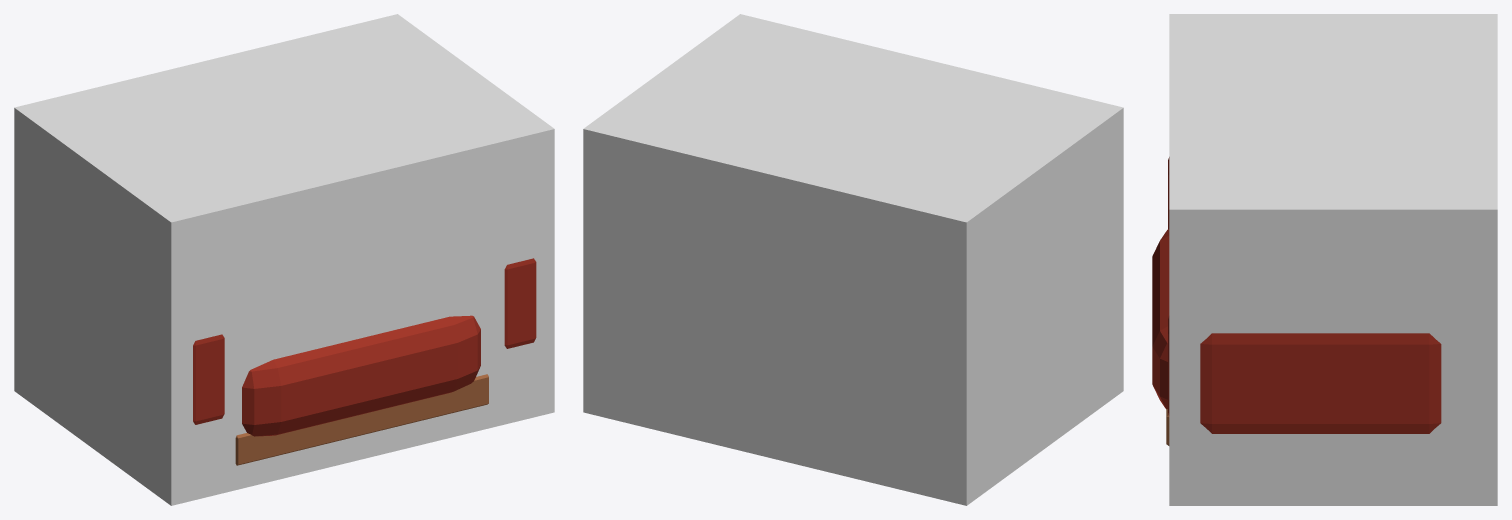
The model's file is sofa-b.glb.
The picture shows the model from 3 angles, left to right: view 1: azimuth 30°, elevation 25°; view 2: azimuth 150°, elevation 25°; view 3: azimuth 270°, elevation 25°; orthographic projection. The views are drawn at different scales.
Parts seen in each view (by area): view 1: Sofa B_col, Sofa B; view 2: Sofa B_col; view 3: Sofa B_col, Sofa B.
Part boxes in pixels (box(x1,y1,x2,y2)): Sofa B_col: box(14, 14, 554, 505); Sofa B: box(193, 258, 536, 465); Sofa B_col: box(583, 14, 1123, 505); Sofa B_col: box(1169, 14, 1497, 505); Sofa B: box(1152, 157, 1441, 445).
Bounding box in the file's own units: 6.19 × 4.37 × 4.6.
